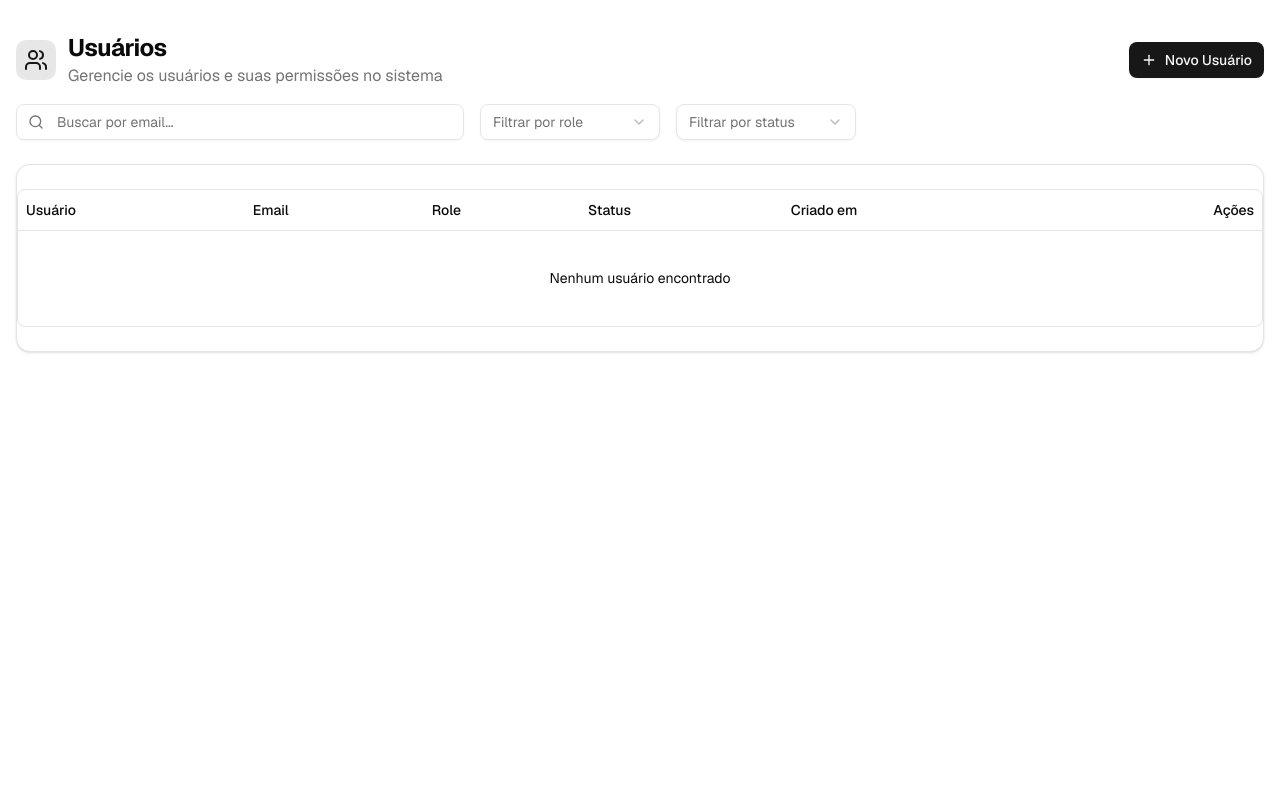
UsersPage › User Interactions › handles new user button click
What coordinates should you click on to do the following:
click the button "Novo Usuário"
I would click on:
 (1196, 60)
Its box is [1129,42,1264,78].
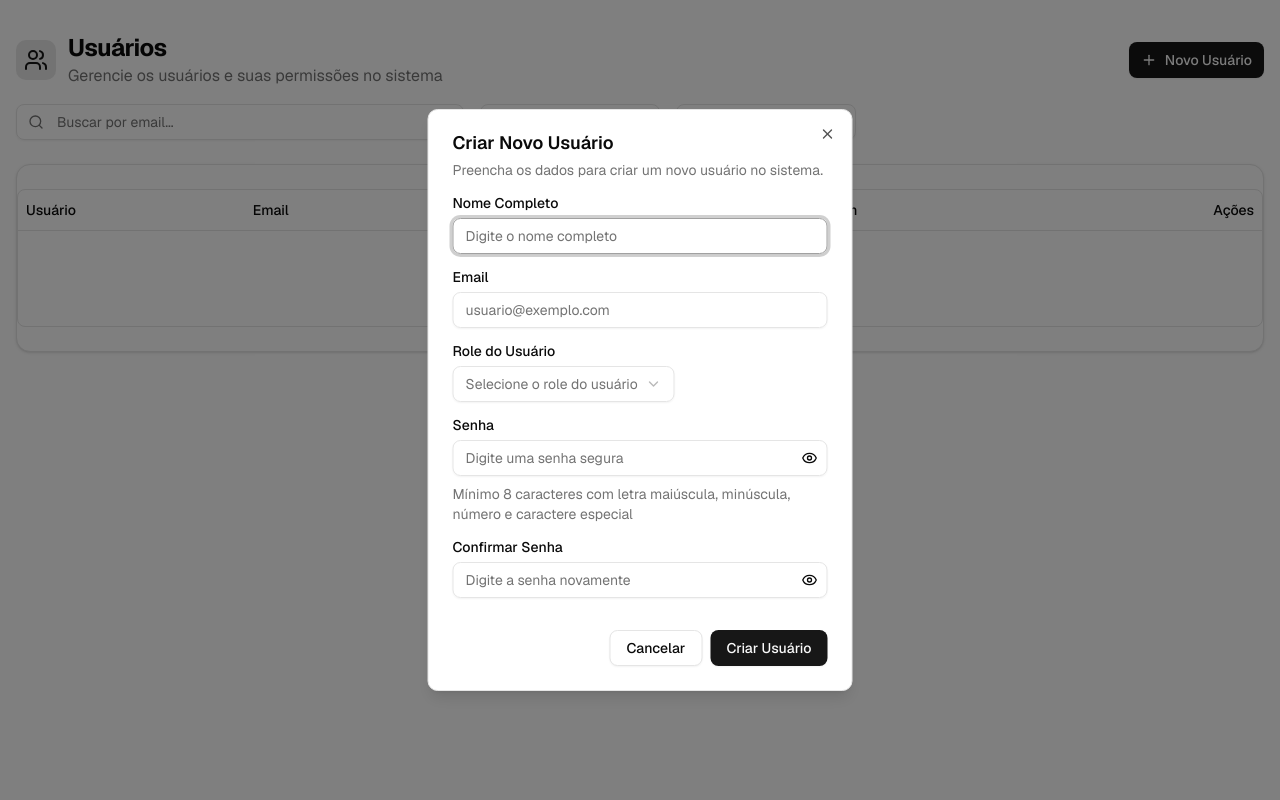
Expected: the dialog "Criar Novo Usuário" is shown, [428,109,852,691]
Expected: the field labelled "Nome Completo" is shown, [452,218,828,254]
Expected: the field labelled "Email" is shown, [452,292,828,328]
